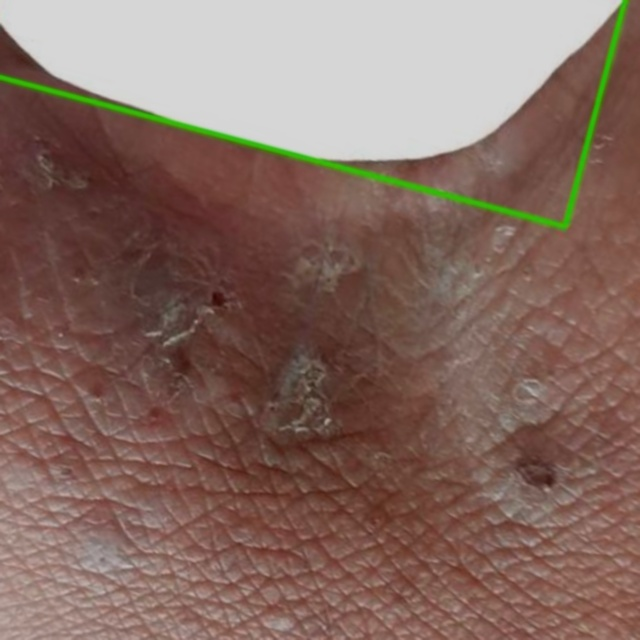Scabies: (0, 0, 624, 226)
